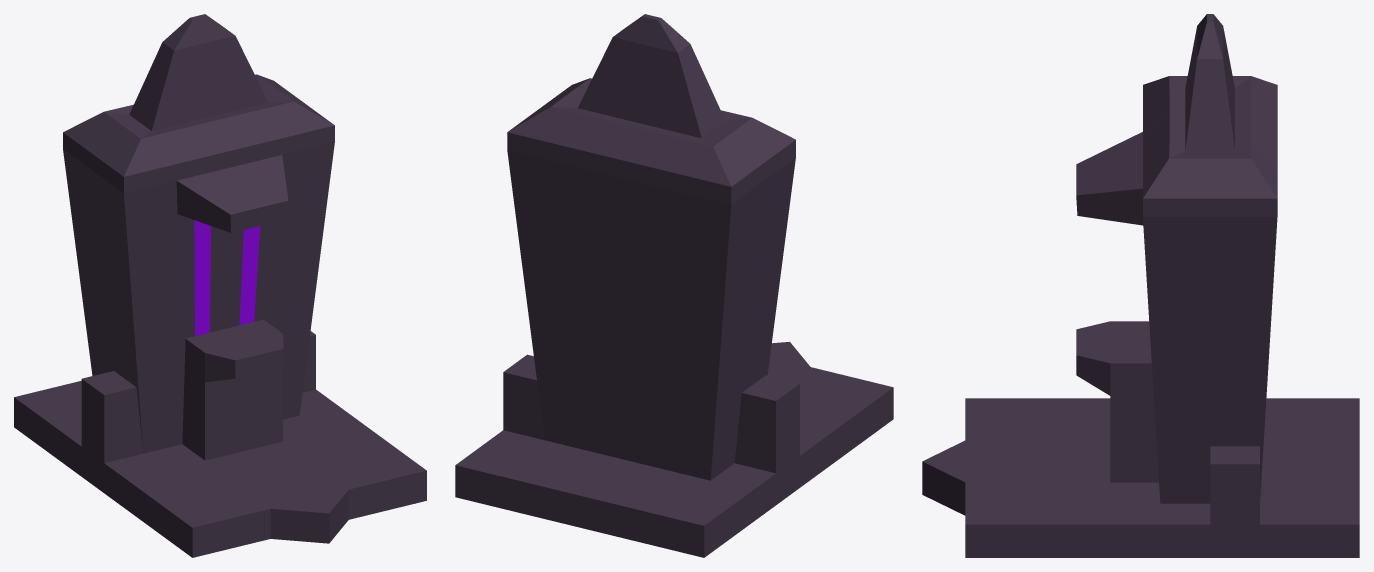
The model's file is Alter.fbx.
3 renders of one model, left to right at view 1: azimuth 30°, elevation 25°; view 2: azimuth 150°, elevation 25°; view 3: azimuth 270°, elevation 25°, orthographic. The views are drawn at different scales.
Parts seen in each view (by area): view 1: Cube; view 2: Cube; view 3: Cube.
Boxes of the visible parts, x1,y1,x2,y2 form: Cube: (14,14,426,557); Cube: (455,14,893,557); Cube: (922,14,1359,557).
Bounding box in the file's own units: 200 × 352 × 293.
